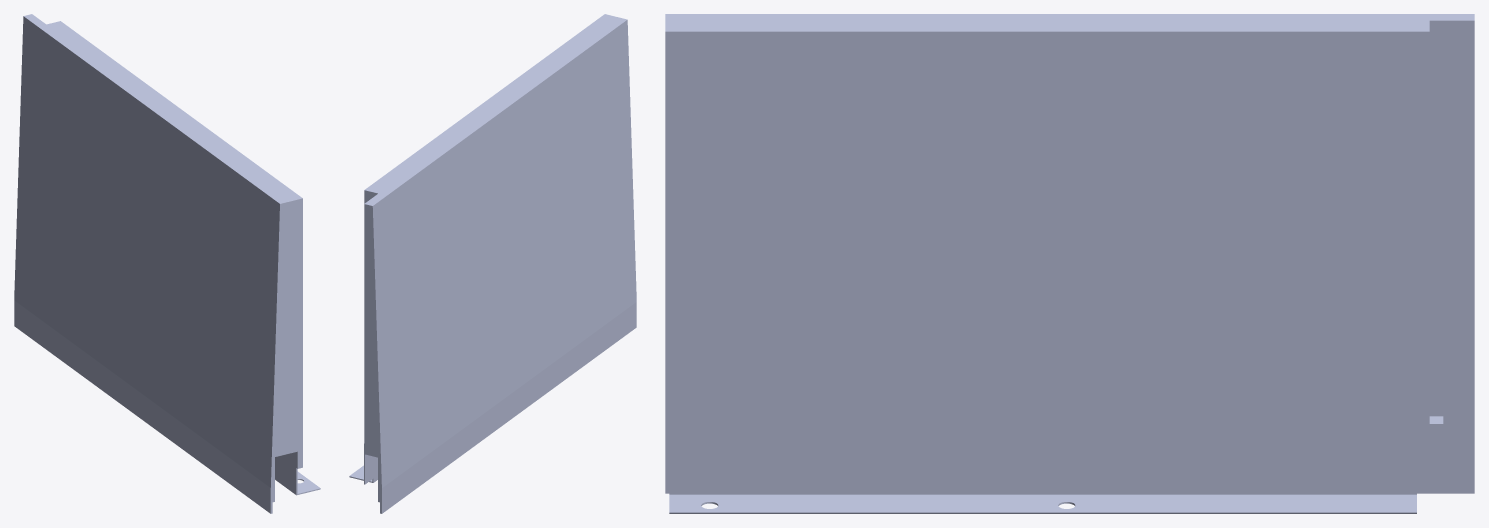
Rendered from mv-kava-E300-p.glb.
3 views of the same model, side by side, from view 1: azimuth 30°, elevation 25°; view 2: azimuth 150°, elevation 25°; view 3: azimuth 270°, elevation 25° (orthographic). The views are drawn at different scales.
Visible parts, largest first — view 1: 46167444; view 2: 46167444; view 3: 46167444.
Boxes of the visible parts, x1,y1,x2,y2 form: 46167444: [14, 14, 320, 513]; 46167444: [349, 14, 636, 513]; 46167444: [665, 14, 1474, 513].
Size of the model in its own units: 0.0335 by 0.192 by 0.2902.
